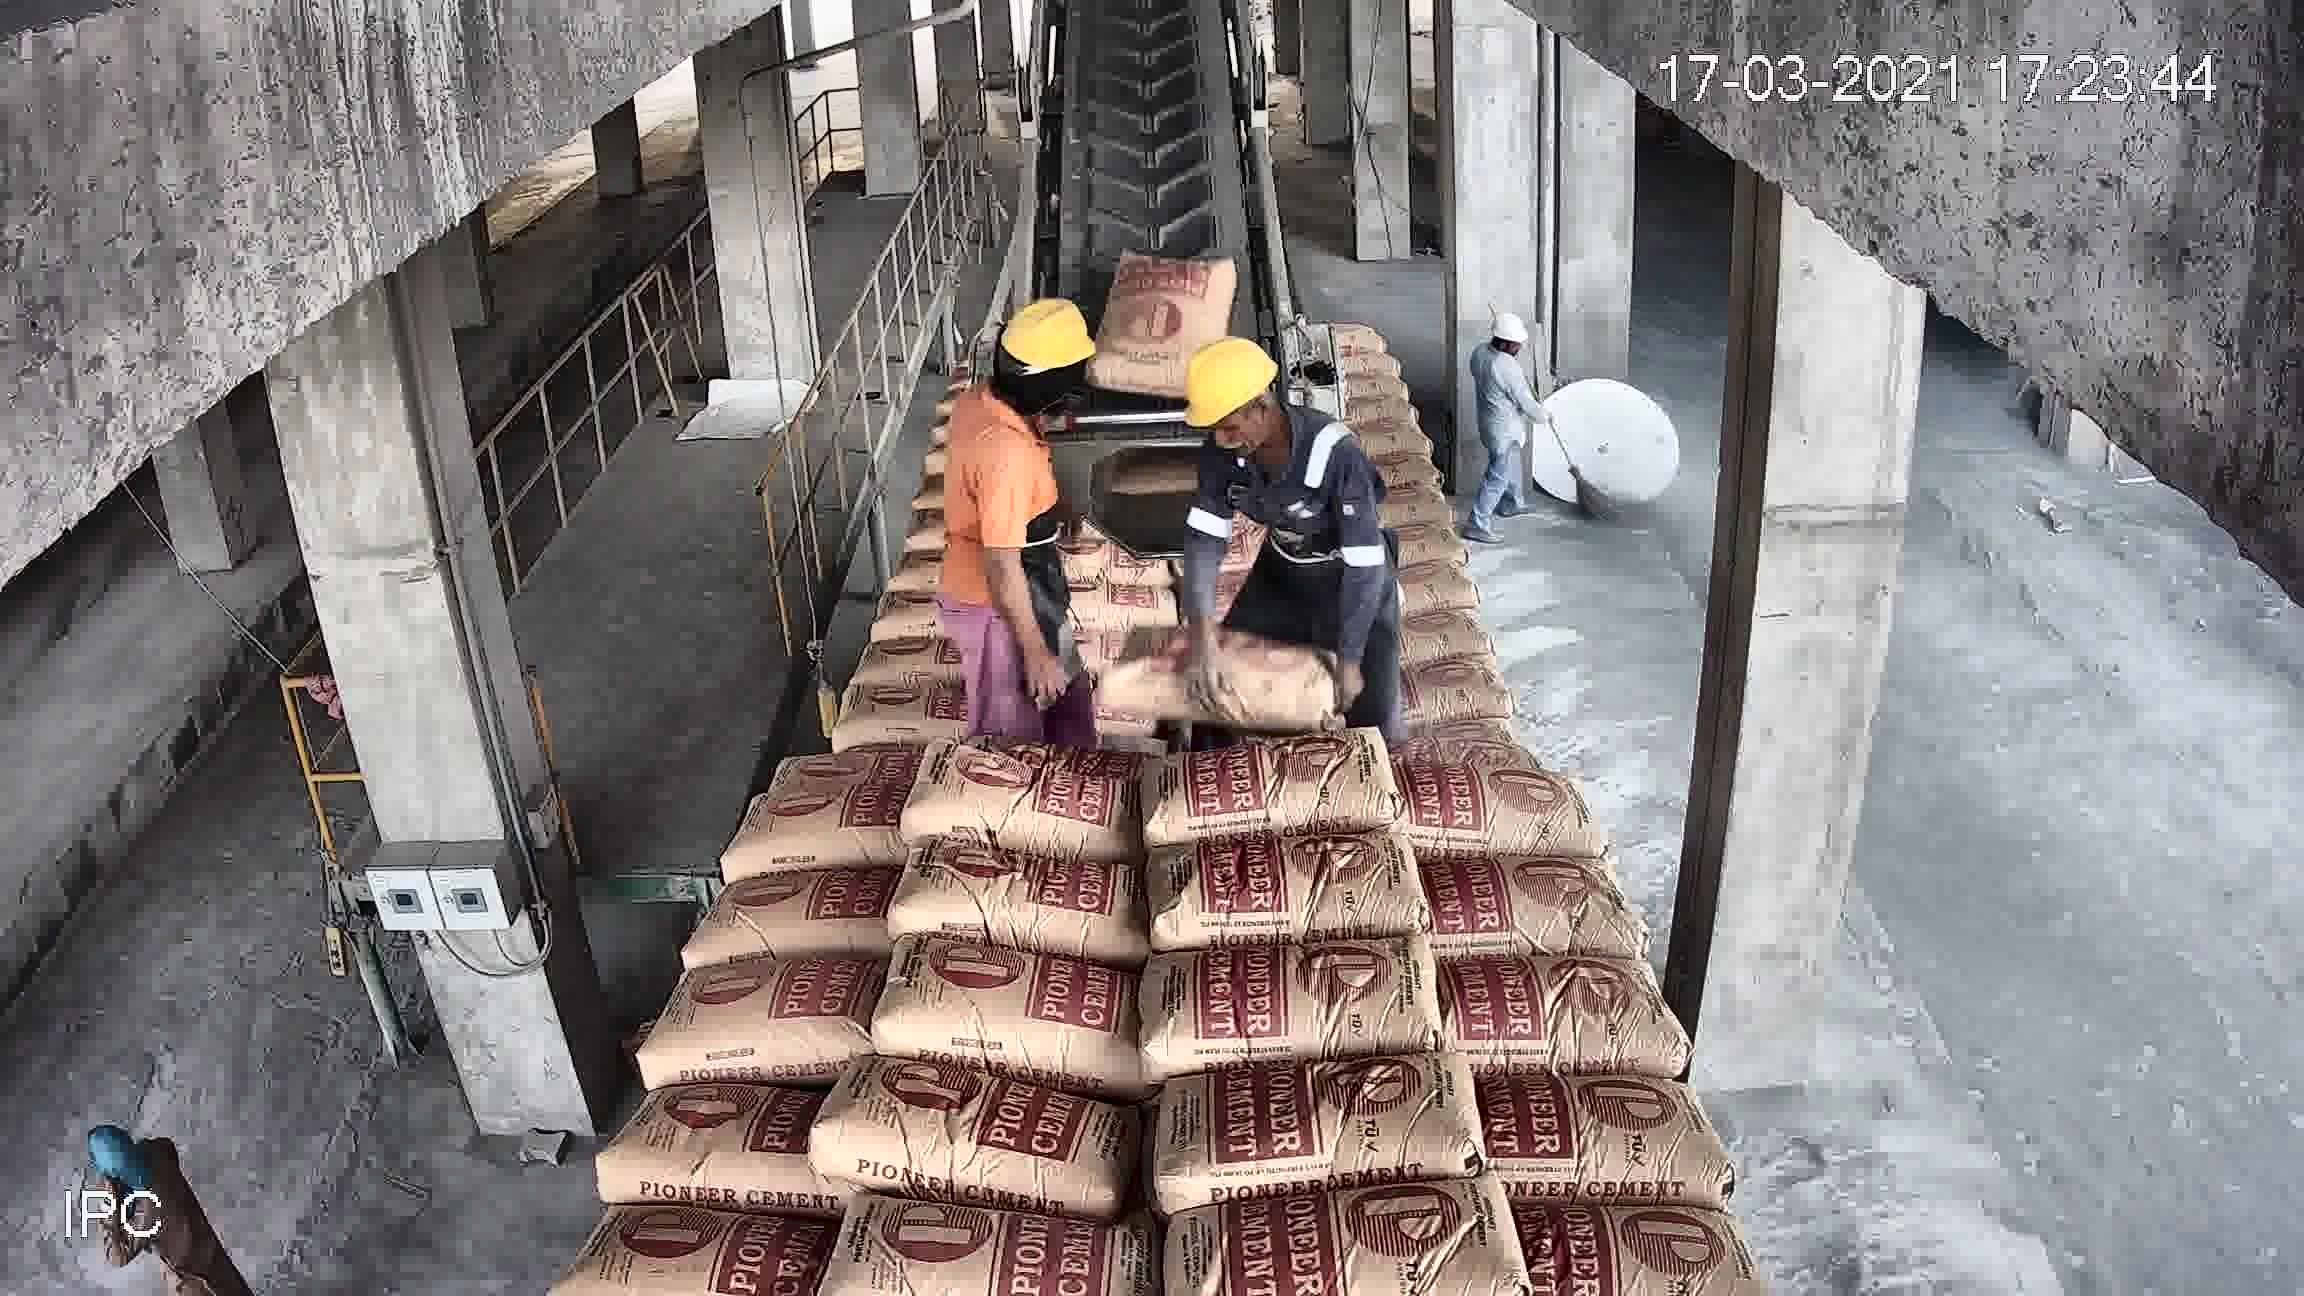bag: (1041, 14, 1239, 345), (1116, 233, 1214, 342), (1092, 17, 1188, 52)
bag_h: (1163, 1150, 1559, 1296), (1160, 1060, 1492, 1206), (824, 1040, 1124, 1190), (864, 940, 1150, 1093), (611, 940, 858, 1105), (817, 1176, 1130, 1296), (1168, 937, 1451, 1067), (589, 1071, 847, 1214), (1161, 812, 1427, 934), (902, 831, 1149, 954), (1415, 967, 1671, 1082), (1480, 1082, 1714, 1207), (641, 869, 877, 981), (1157, 731, 1393, 840), (916, 742, 1139, 856), (1150, 658, 1385, 756), (706, 785, 926, 888), (1407, 843, 1617, 949), (563, 1203, 798, 1296), (1366, 764, 1578, 866), (1168, 593, 1399, 684), (946, 593, 1150, 695), (923, 663, 1135, 760), (1136, 538, 1348, 633), (1499, 1207, 1726, 1290), (1396, 688, 1616, 769), (760, 709, 948, 791), (785, 642, 951, 734), (1128, 503, 1326, 579), (802, 581, 973, 668), (1374, 623, 1559, 703), (965, 508, 1135, 590), (807, 533, 965, 598), (1336, 570, 1524, 622), (1340, 519, 1492, 576), (980, 571, 1158, 616), (911, 457, 1002, 510), (1163, 388, 1272, 426), (942, 416, 1005, 472), (1180, 451, 1260, 494), (1185, 418, 1255, 464)
